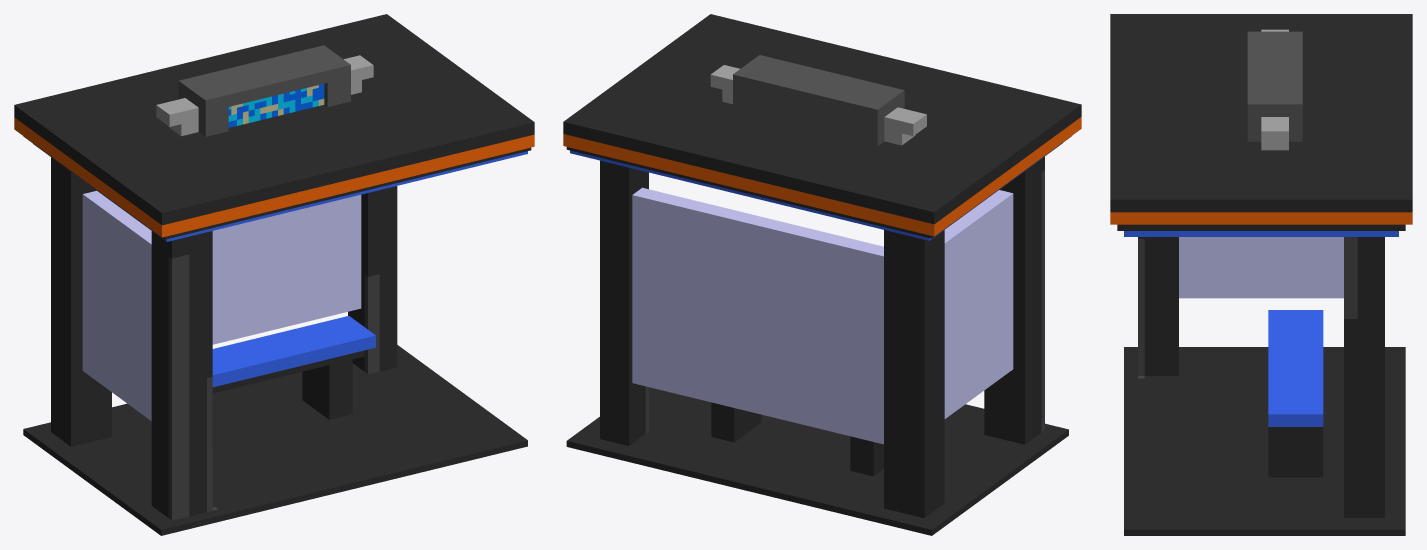
Rendered from bus station.obj.
3 renders of one model, left to right at view 1: azimuth 30°, elevation 25°; view 2: azimuth 150°, elevation 25°; view 3: azimuth 270°, elevation 25°, orthographic. The views are drawn at different scales.
Size of the model in its own units: 6.4 by 6 by 4.4.
1 material, 1 textured.
